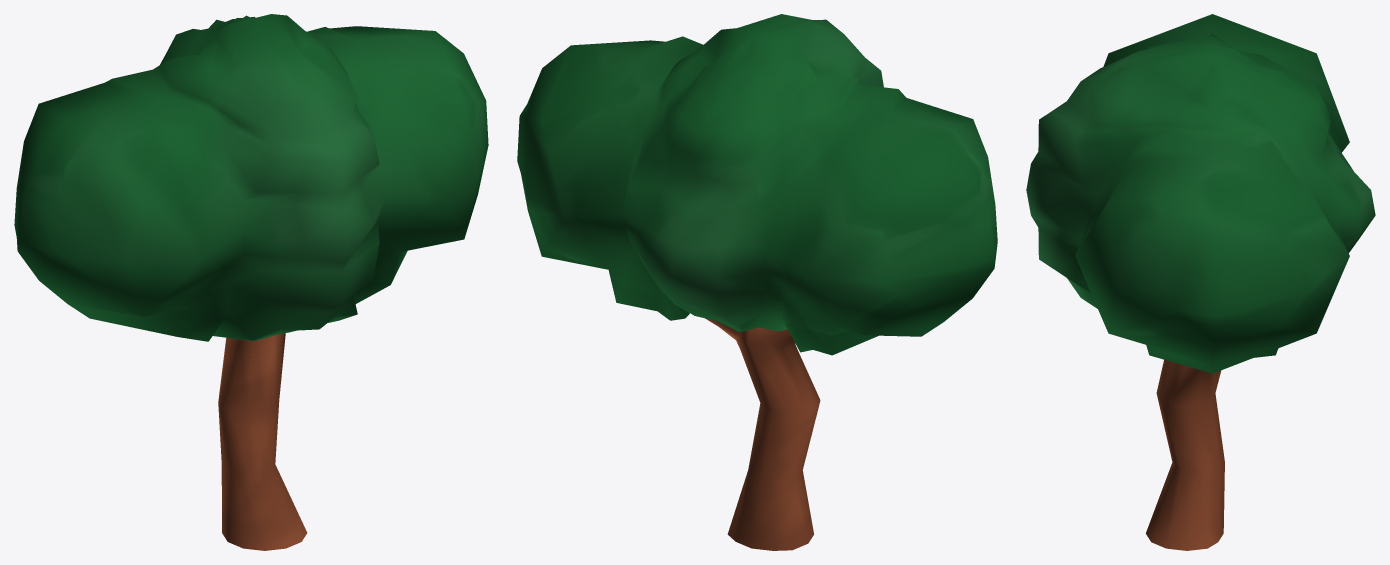
File: Tree1.fbx
The picture shows the model from 3 angles, left to right: view 1: azimuth 30°, elevation 25°; view 2: azimuth 150°, elevation 25°; view 3: azimuth 270°, elevation 25°; orthographic projection. The views are drawn at different scales.
Parts seen in each view (by area): view 1: Cylinder.001; view 2: Cylinder.001; view 3: Cylinder.001.
Boxes of the visible parts, <box> form: Cylinder.001: <box>14,14,488,550</box>; Cylinder.001: <box>517,14,997,550</box>; Cylinder.001: <box>1026,14,1375,550</box>.
Size of the model in its own units: 925 by 953 by 618.
1 material, 1 textured.
